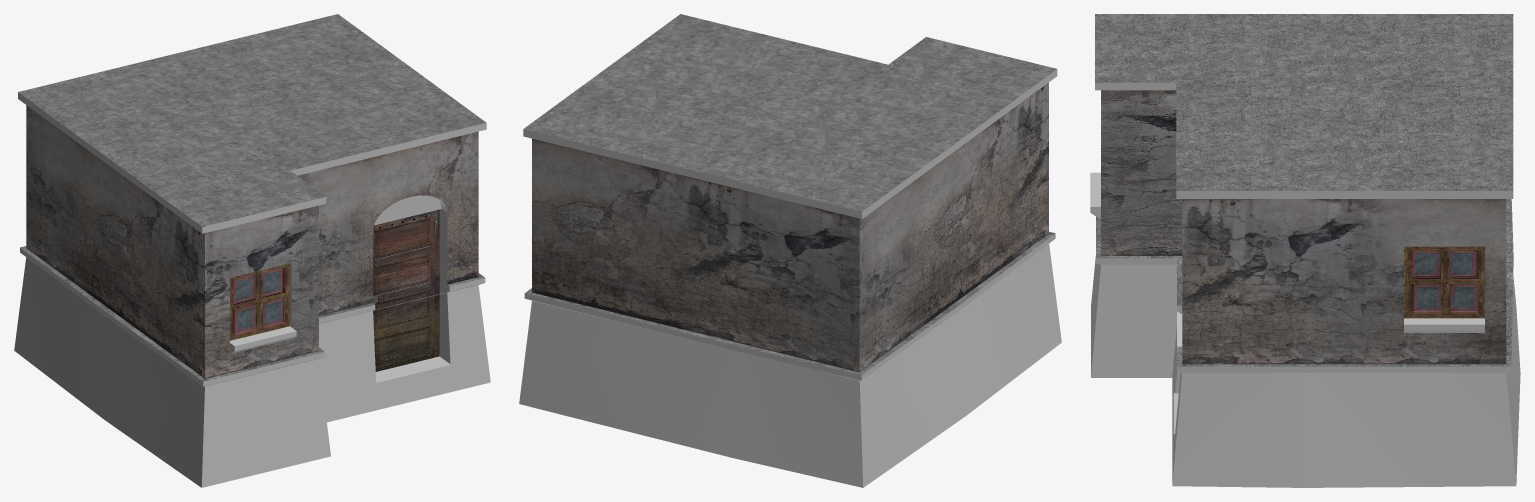
Rendered from Building_Base_03.fbx.
3 views of the same model, side by side, from view 1: azimuth 30°, elevation 25°; view 2: azimuth 150°, elevation 25°; view 3: azimuth 270°, elevation 25° (orthographic). The views are drawn at different scales.
Parts seen in each view (by area): view 1: Building_Base_03; view 2: Building_Base_03; view 3: Building_Base_03.
Boxes of the visible parts, bbox=[...] form: Building_Base_03: bbox=[14, 14, 490, 487]; Building_Base_03: bbox=[519, 14, 1061, 487]; Building_Base_03: bbox=[1090, 14, 1520, 487].
Size of the model in its own units: 535 by 400 by 531.
